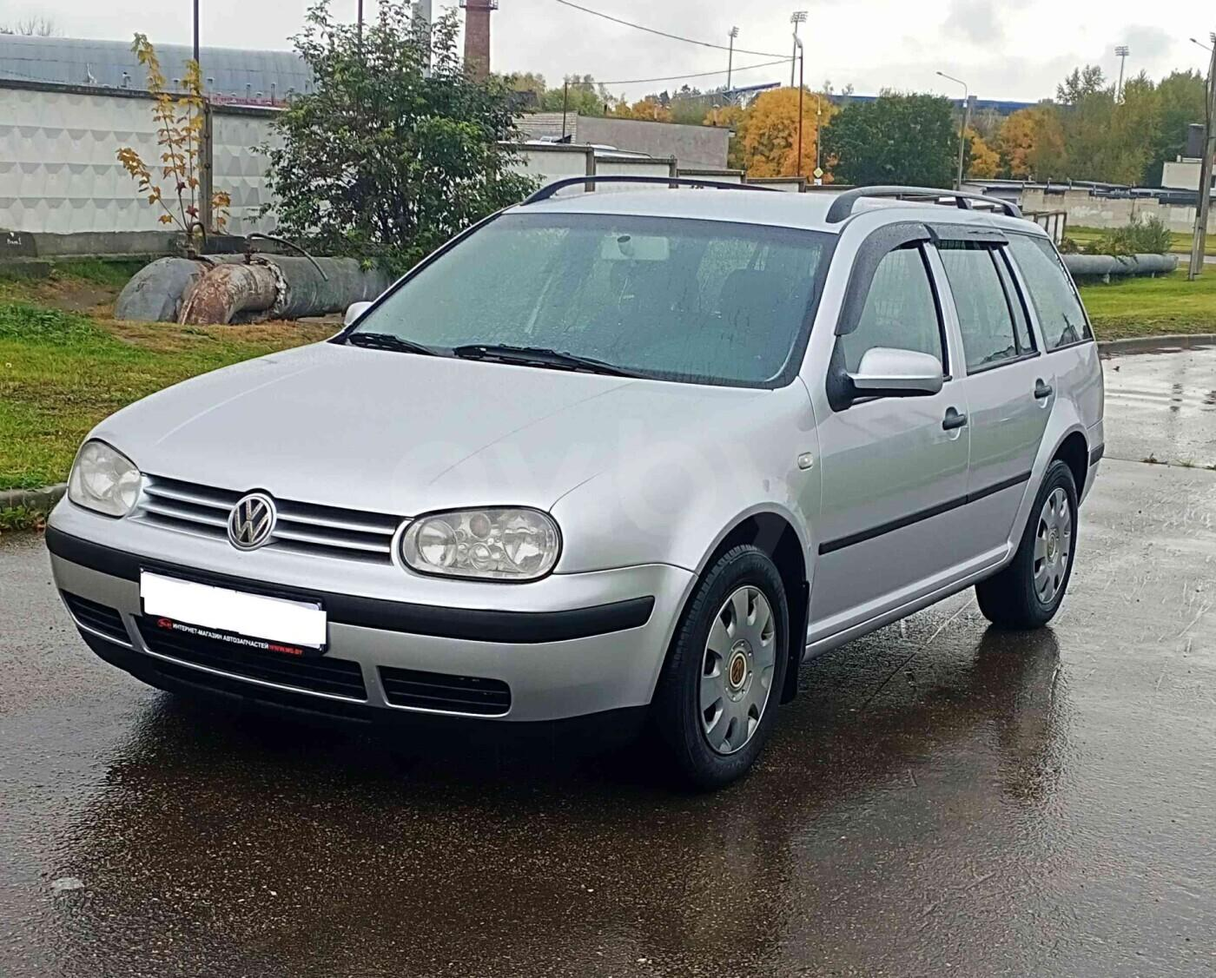Golf_1997-2006: (45, 181, 1107, 771)
